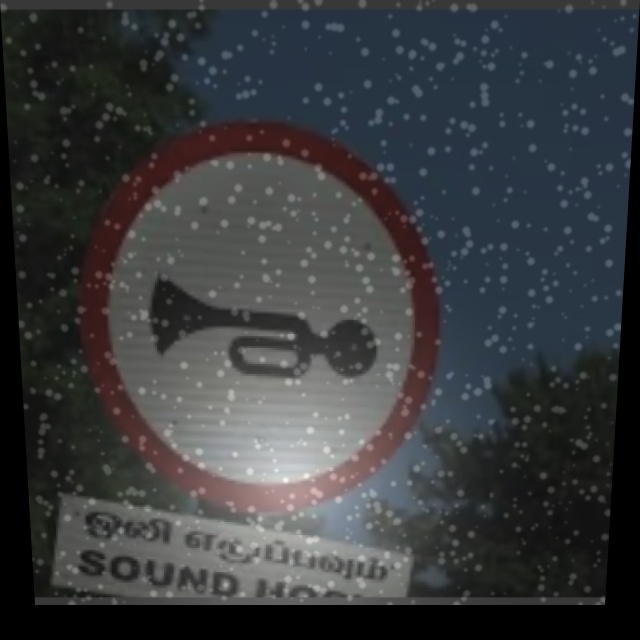Compulsory_Sound_Horn: (99, 134, 442, 483)
